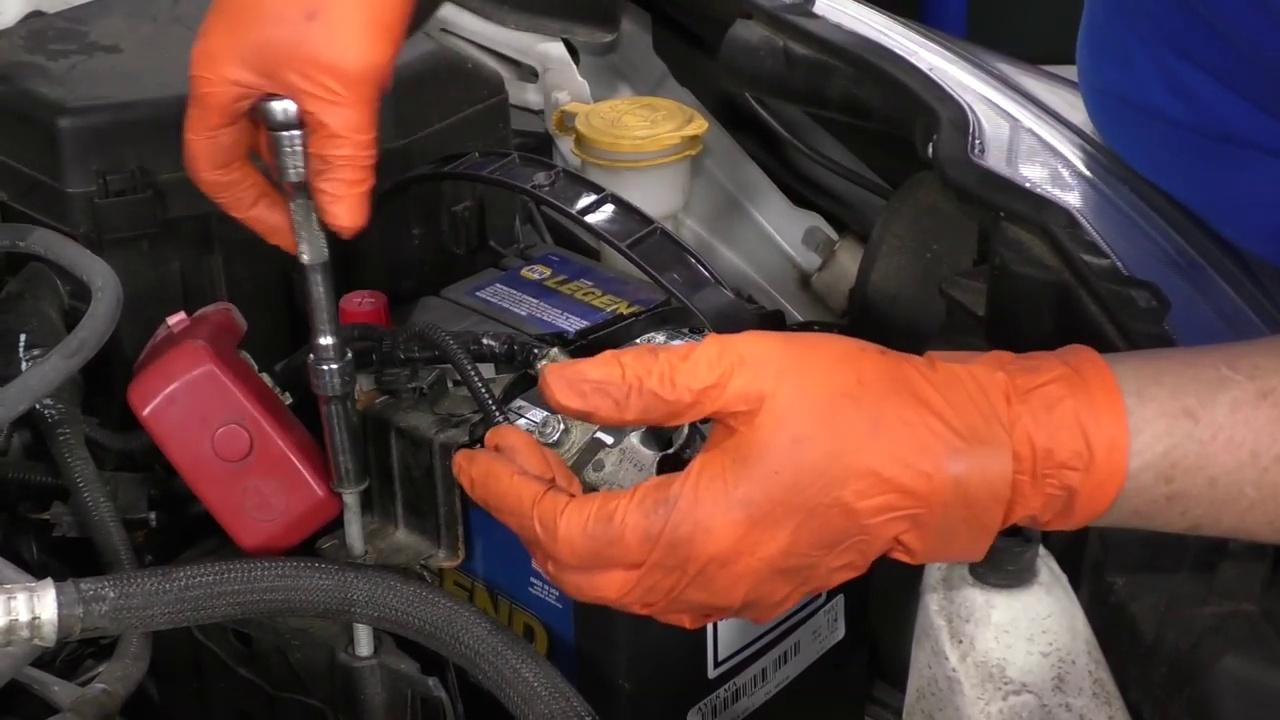battery: (304, 244, 811, 504)
